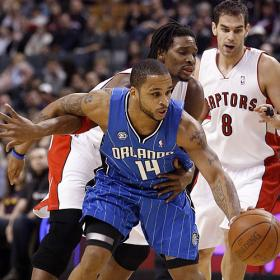basketball: (229, 210, 280, 266)
